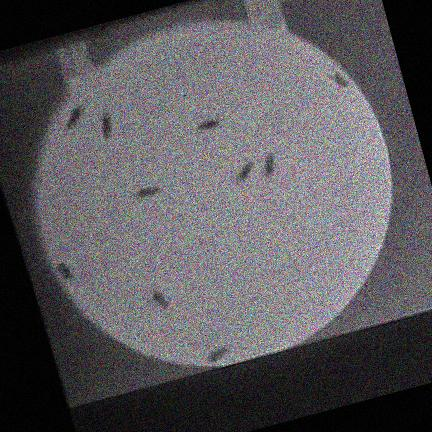fly: (65, 107, 83, 131), (55, 262, 76, 282), (236, 162, 253, 184), (207, 347, 228, 362), (195, 118, 219, 131), (137, 187, 161, 199), (152, 291, 168, 309), (329, 73, 348, 88), (101, 113, 111, 141), (263, 154, 274, 179)
